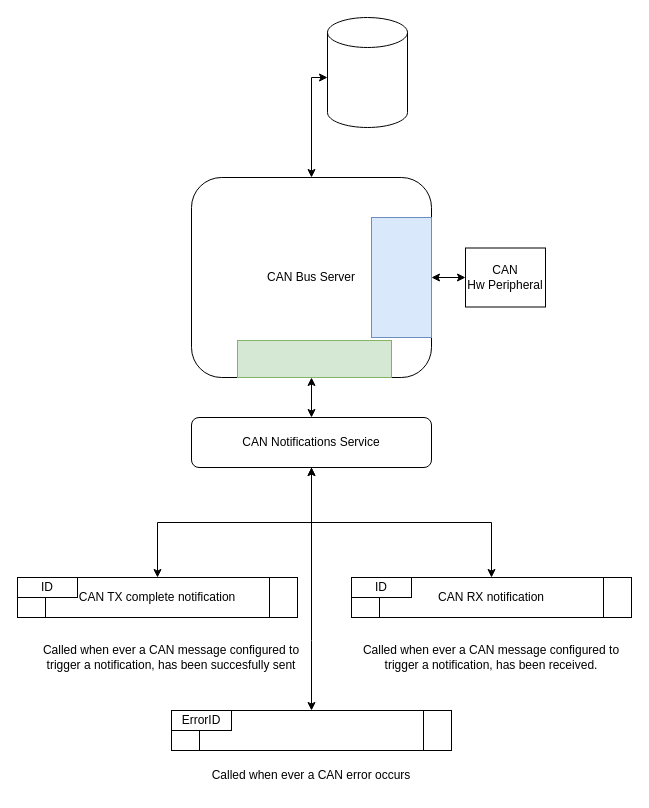
Some shapes in this 649 by 808 pixel diagram are drawn without their labels. Here are the shapes that lost their labels. From the top down, the box of each, then its label:
(326, 16, 408, 128): CAN MSGs
(370, 216, 432, 338): CAN Bus Low Peripheral Driver
(236, 340, 392, 378): Event Loop
(170, 710, 452, 750): CAN Error Event
